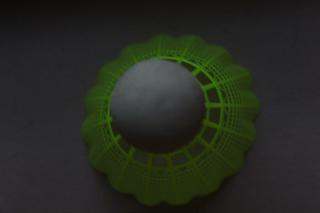shuttlecock: (84, 34, 258, 203)
